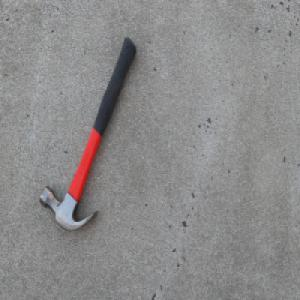Hammer: (38, 36, 137, 234)
